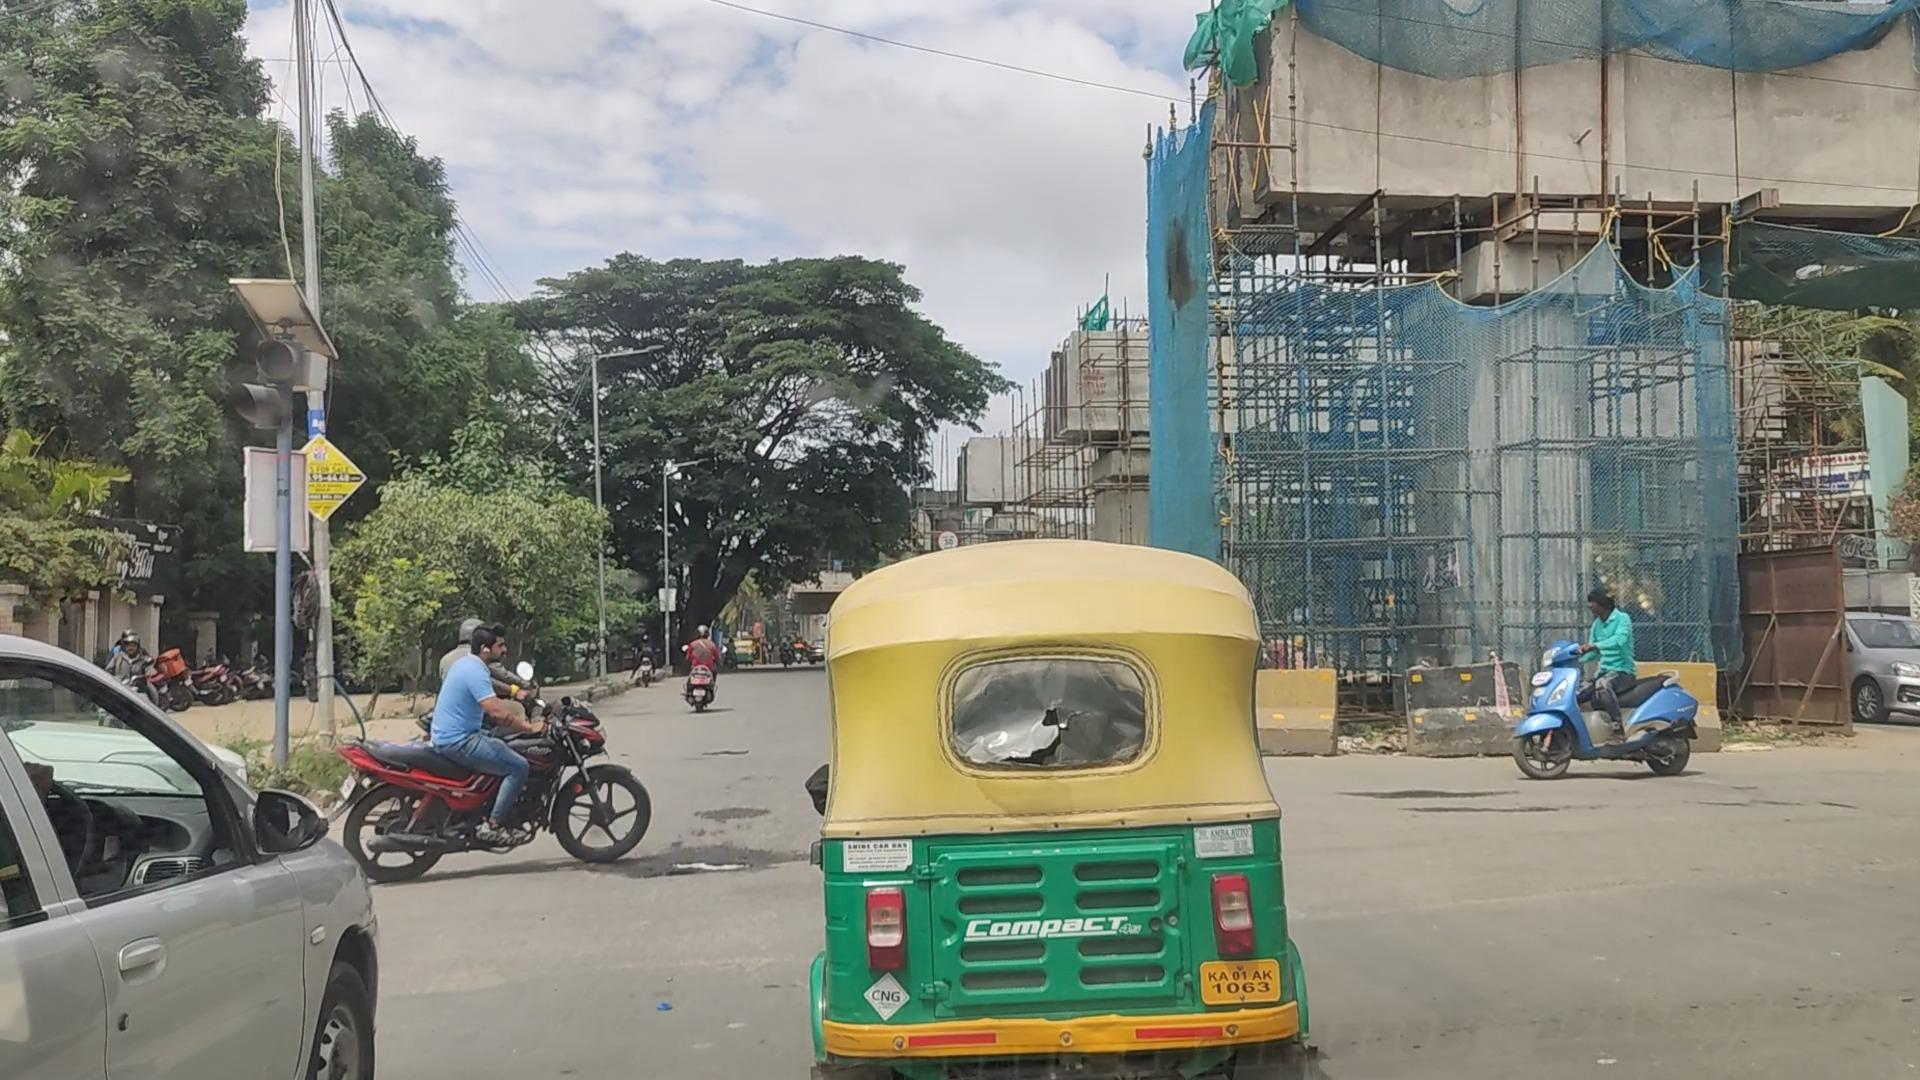LMV: (832, 545, 1279, 1080), (367, 622, 593, 874), (1539, 566, 1716, 777)
RoadDamages: (625, 824, 786, 889)
